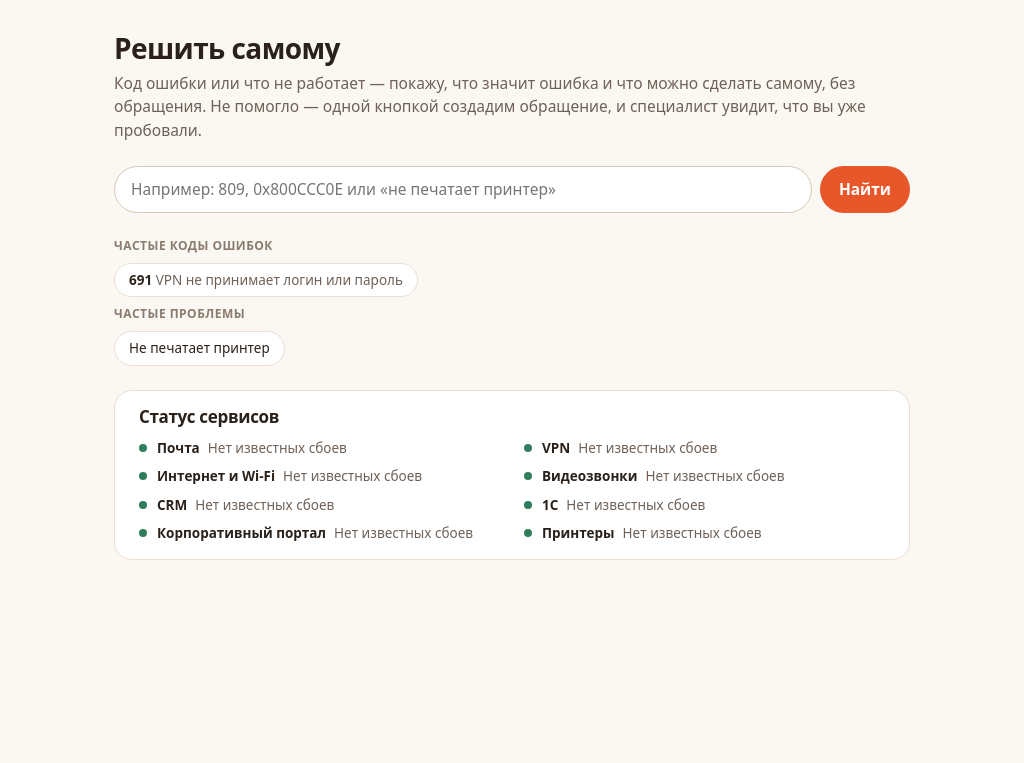
it: «Решить самому» › offers popular codes and topics as one tap
Click the button "691 VPN не принимает логин или пароль" at {"x": 266, "y": 280}, box [114,263,418,298]
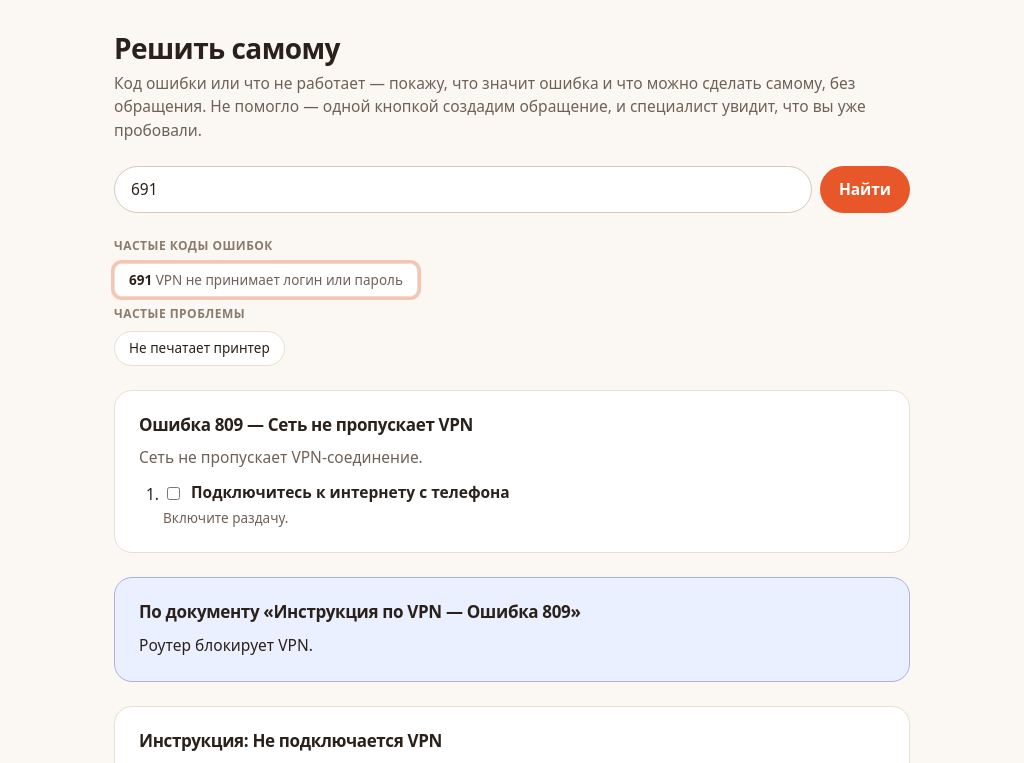
Check: the button "Не печатает принтер" is shown, box [114,331,285,366]
Check: the heading "Ошибка 809 — Сеть не пропускает VPN" is shown, box [139,413,473,436]
